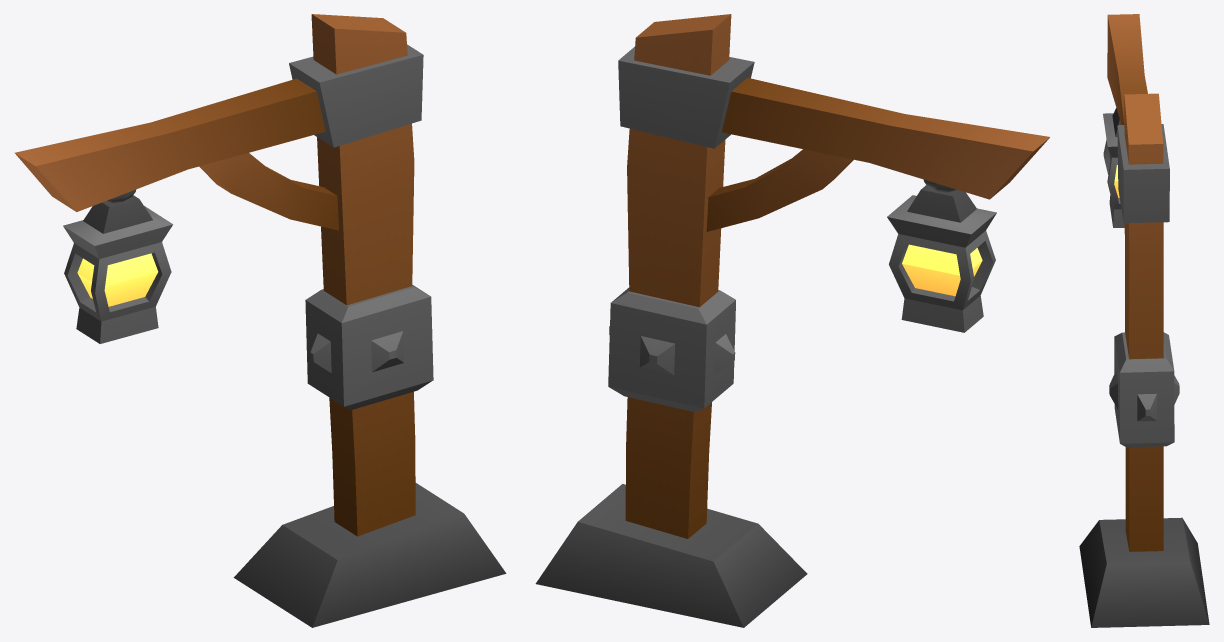
File: lamp.001_lev1.glb
3 renders of one model, left to right at view 1: azimuth 30°, elevation 25°; view 2: azimuth 150°, elevation 25°; view 3: azimuth 270°, elevation 25°, orthographic. The views are drawn at different scales.
Parts seen in each view (by area): view 1: lamp.001_lev1; view 2: lamp.001_lev1; view 3: lamp.001_lev1.
Part boxes in pixels (<box>): lamp.001_lev1: <box>14,14,506,627</box>; lamp.001_lev1: <box>535,14,1049,627</box>; lamp.001_lev1: <box>1079,14,1209,627</box>.
Bounding box in the file's own units: 20.12 × 23.56 × 5.89.
1 material, 1 textured.
